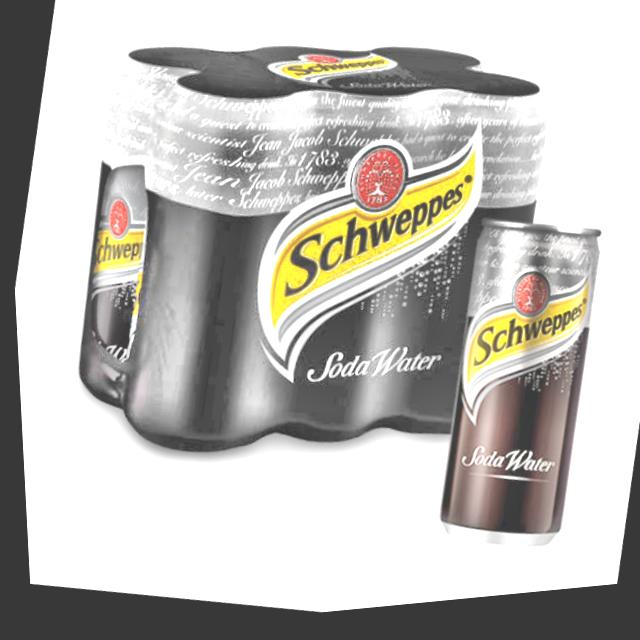Cans: (420, 216, 618, 567)
